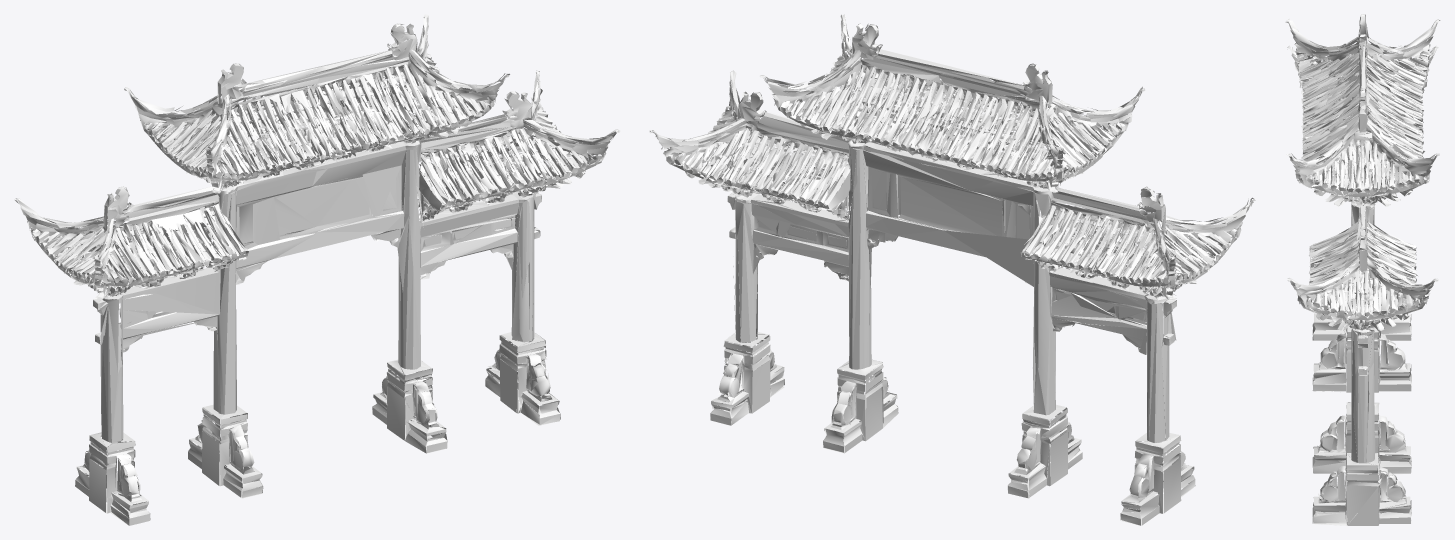
File: paifang_gate_lod1.glb
The picture shows the model from 3 angles, left to right: view 1: azimuth 30°, elevation 25°; view 2: azimuth 150°, elevation 25°; view 3: azimuth 270°, elevation 25°; orthographic projection. The views are drawn at different scales.
Parts seen in each view (by area): view 1: Mesh_0; view 2: Mesh_0; view 3: Mesh_0.
Boxes of the visible parts, box(x1,y1,x2,y2) form: Mesh_0: box(14, 14, 620, 525); Mesh_0: box(649, 14, 1255, 525); Mesh_0: box(1285, 14, 1440, 525).
Size of the model in its own units: 13 by 9.68 by 3.64.
1 material, 1 textured.
